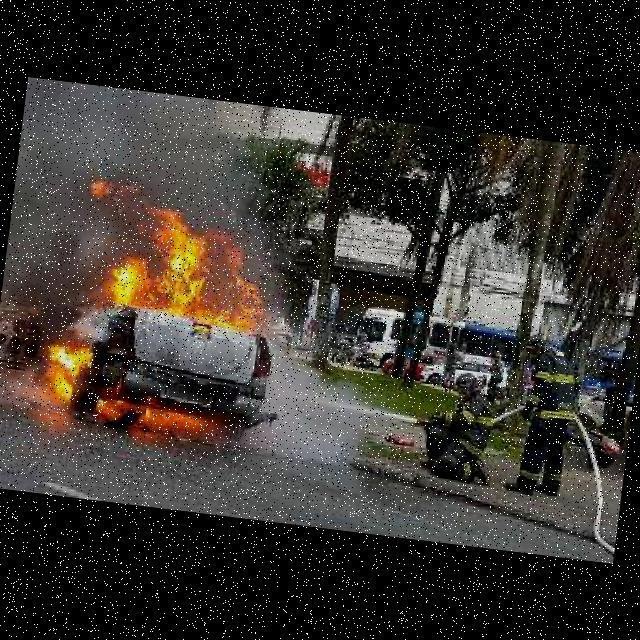Fire: (73, 171, 283, 338), (43, 336, 219, 434)
Smoke: (50, 83, 274, 220), (0, 221, 129, 353)
